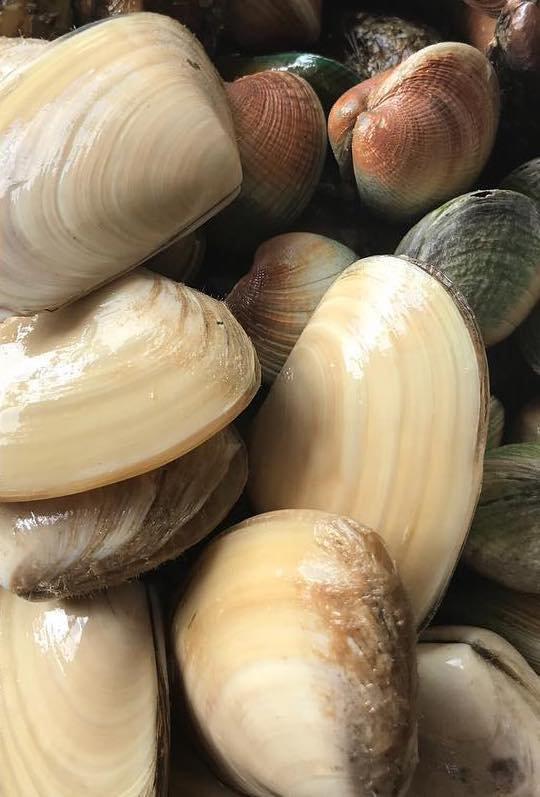cockle: (321, 34, 506, 228), (393, 184, 538, 349), (221, 62, 331, 249), (228, 228, 352, 368), (476, 438, 540, 593)
tuatua: (259, 251, 494, 647), (167, 504, 425, 797), (2, 14, 244, 312), (1, 264, 267, 505), (1, 430, 248, 608), (2, 568, 169, 797), (417, 617, 536, 797)
